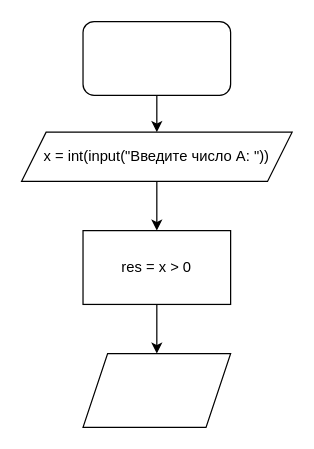
This 314x449 diagram has some shape labels left out. Each missing label, with the box of its shape:
Begin: (82, 20, 231, 95)
print(res): (82, 352, 231, 427)
